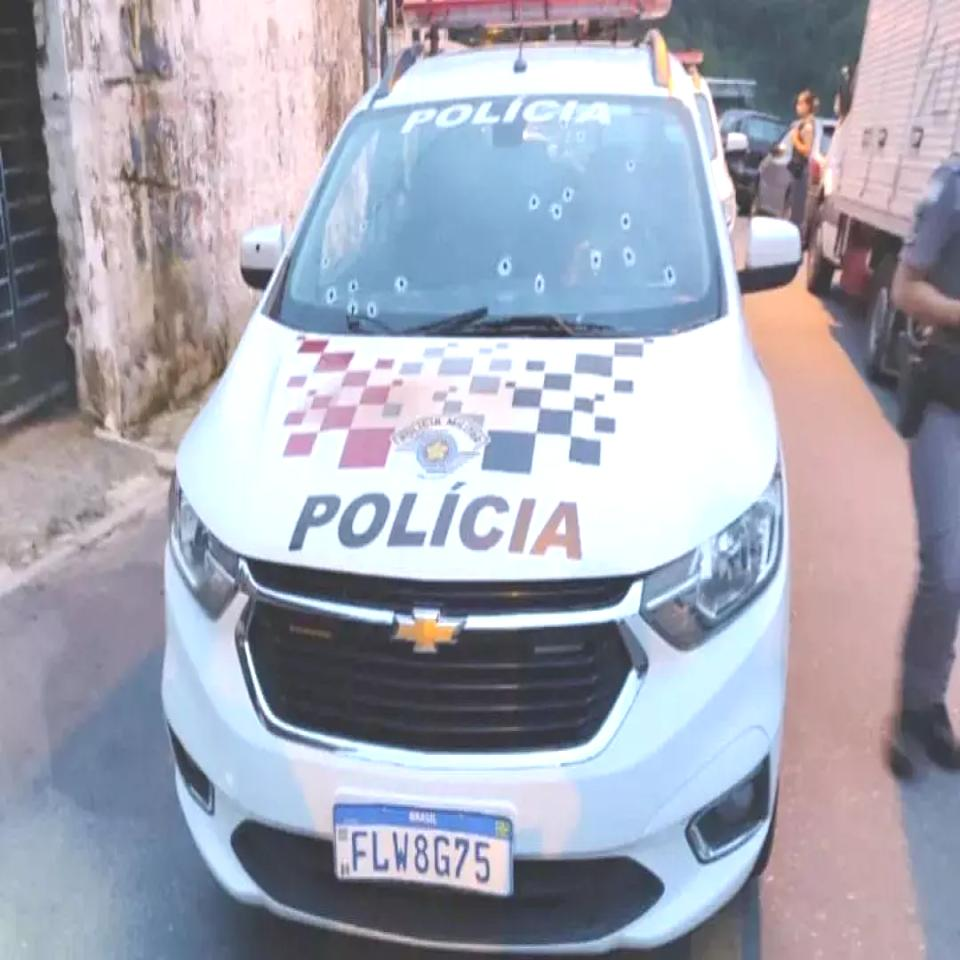viatura: (159, 0, 803, 955)
